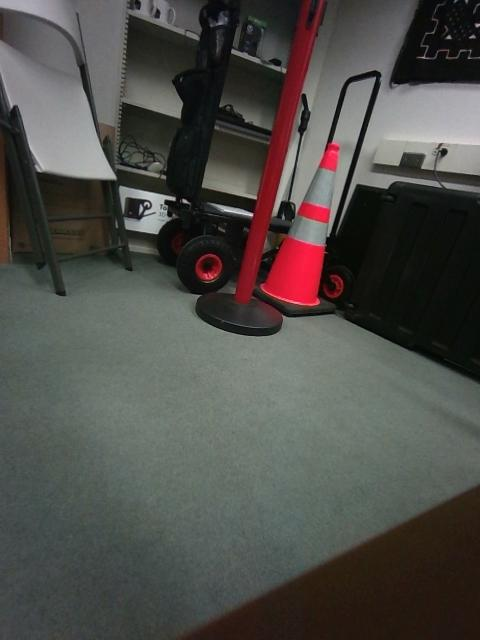block: (62, 284, 96, 354)
